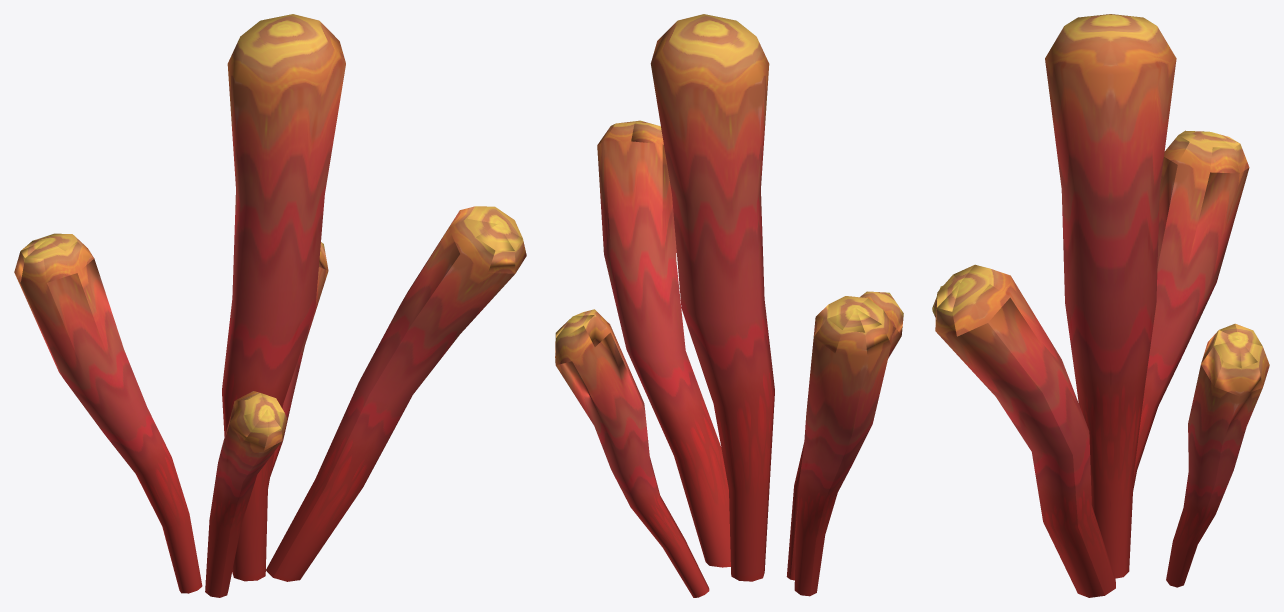
The picture shows the model from 3 angles, left to right: view 1: azimuth 30°, elevation 25°; view 2: azimuth 150°, elevation 25°; view 3: azimuth 270°, elevation 25°; orthographic projection. The views are drawn at different scales.
Visible parts, largest first — view 1: wk_s02_52; view 2: wk_s02_52; view 3: wk_s02_52.
Part boxes in pixels (box(x1,y1,x2,y2)): wk_s02_52: box(14, 14, 526, 597); wk_s02_52: box(555, 14, 903, 597); wk_s02_52: box(932, 14, 1269, 597).
Size of the model in its own units: 2.57 by 1.79 by 3.38.
1 material, 1 textured.
